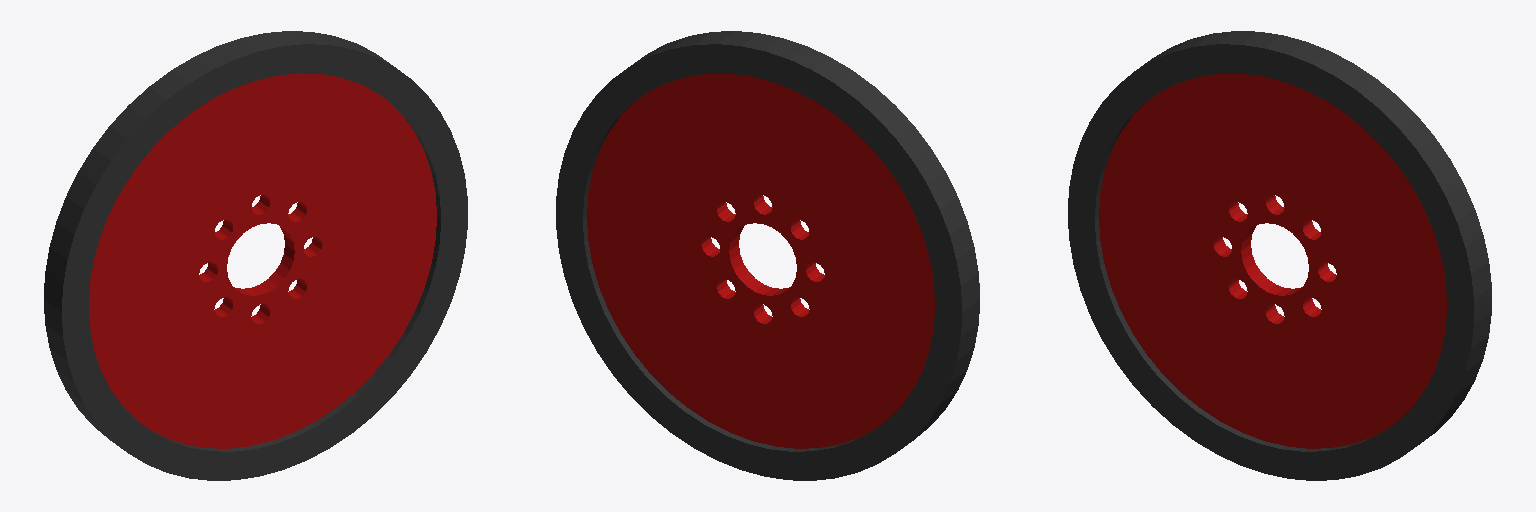
Rendered from ROB-12382.obj.
The picture shows the model from 3 angles: view 1: azimuth 30°, elevation 25°; view 2: azimuth 150°, elevation 25°; view 3: azimuth 330°, elevation 25°; orthographic projection.
Visible parts, largest first — view 1: mesh 2 Boss-Extrude1, mesh 1 RO; view 2: mesh 2 Boss-Extrude1, mesh 1 RO; view 3: mesh 2 Boss-Extrude1, mesh 1 RO.
Boxes of the visible parts, x1=… form: mesh 2 Boss-Extrude1: x1=89, y1=73, x2=436, y2=448; mesh 1 RO: x1=44, y1=31, x2=467, y2=480; mesh 2 Boss-Extrude1: x1=587, y1=73, x2=934, y2=448; mesh 1 RO: x1=556, y1=31, x2=979, y2=480; mesh 2 Boss-Extrude1: x1=1099, y1=73, x2=1446, y2=448; mesh 1 RO: x1=1068, y1=31, x2=1491, y2=480.
Bounding box in the file's own units: 0.0762 × 0.0762 × 0.0058.